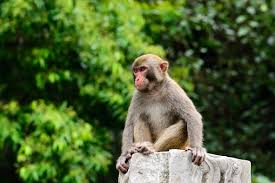monkey: (99, 22, 211, 161)
